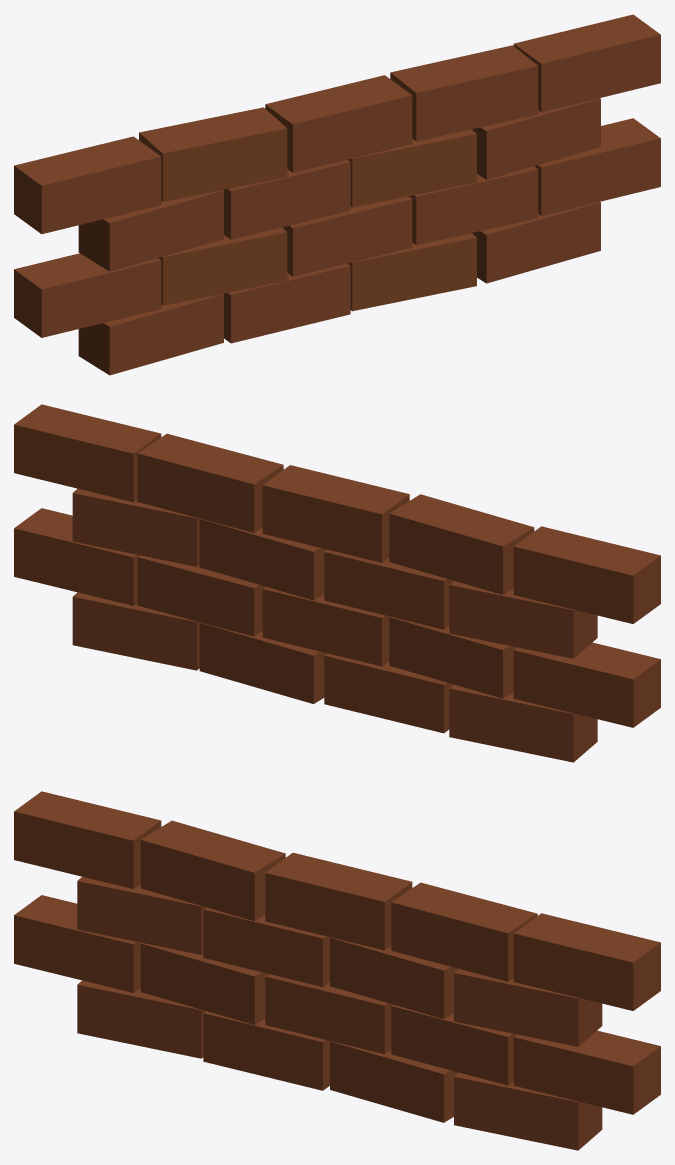
Rendered from Brick_Wall_2.glb.
The picture shows the model from 3 angles, top to bottom: view 1: azimuth 30°, elevation 25°; view 2: azimuth 150°, elevation 25°; view 3: azimuth 330°, elevation 25°; orthographic projection.
Parts seen in each view (by area): view 1: BrickWall_2; view 2: BrickWall_2; view 3: BrickWall_2.
Boxes of the visible parts, box(x1,y1,x2,y2) form: BrickWall_2: box(14, 14, 660, 375); BrickWall_2: box(14, 404, 660, 762); BrickWall_2: box(14, 791, 660, 1150).
Size of the model in its own units: 2.24 by 0.7039 by 0.206.
